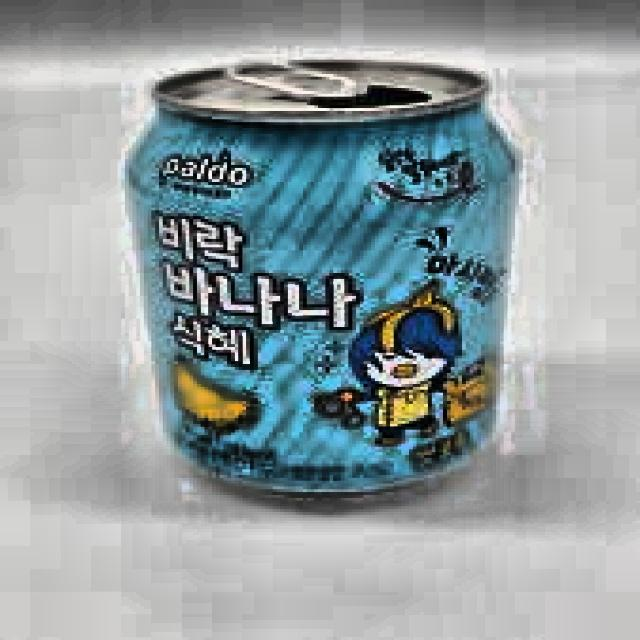Cans: (98, 51, 542, 516)
